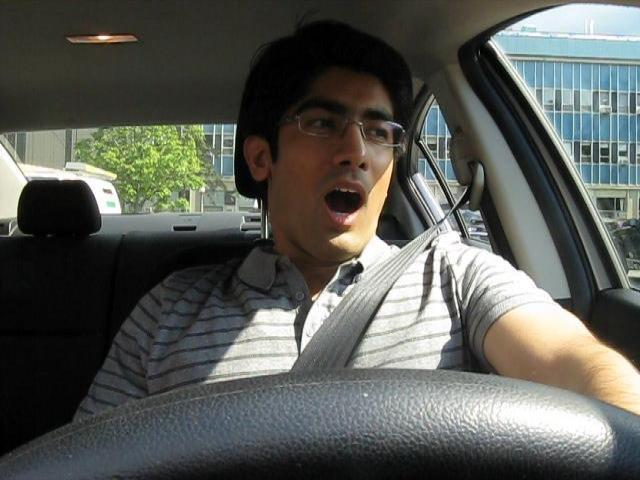eye_open: (305, 113, 342, 132), (365, 125, 393, 142)
face: (276, 82, 397, 262)
mouth_open: (318, 179, 370, 227)
